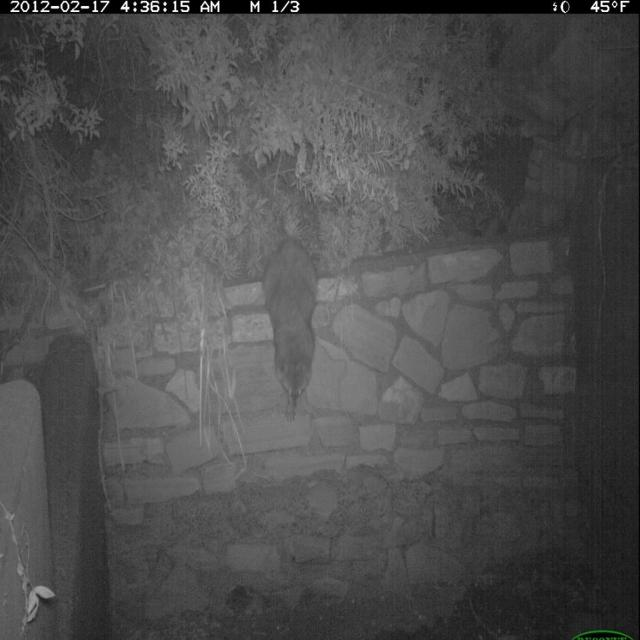raccoon: (257, 231, 328, 430)
